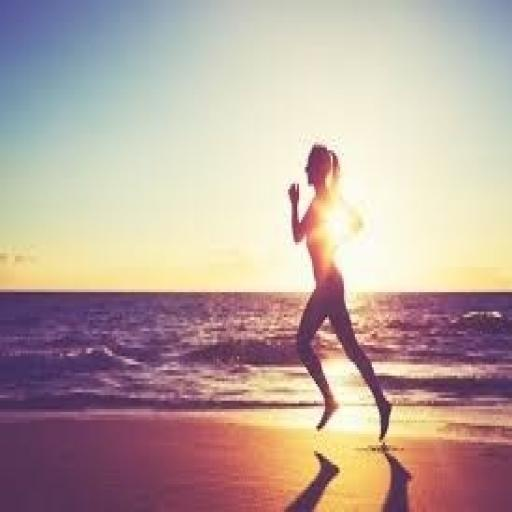running: (284, 139, 396, 448)
